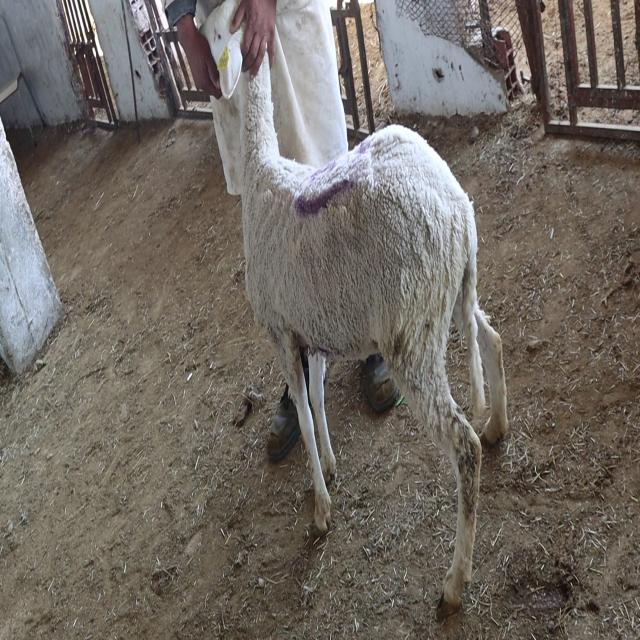Score_3: (236, 59, 508, 618), (201, 0, 242, 100)
